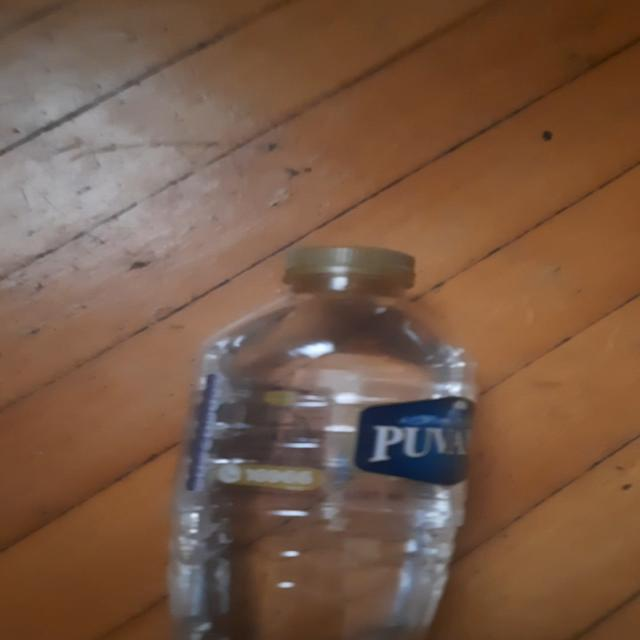Plastic: (165, 247, 480, 640), (200, 356, 470, 498), (294, 248, 414, 303)
